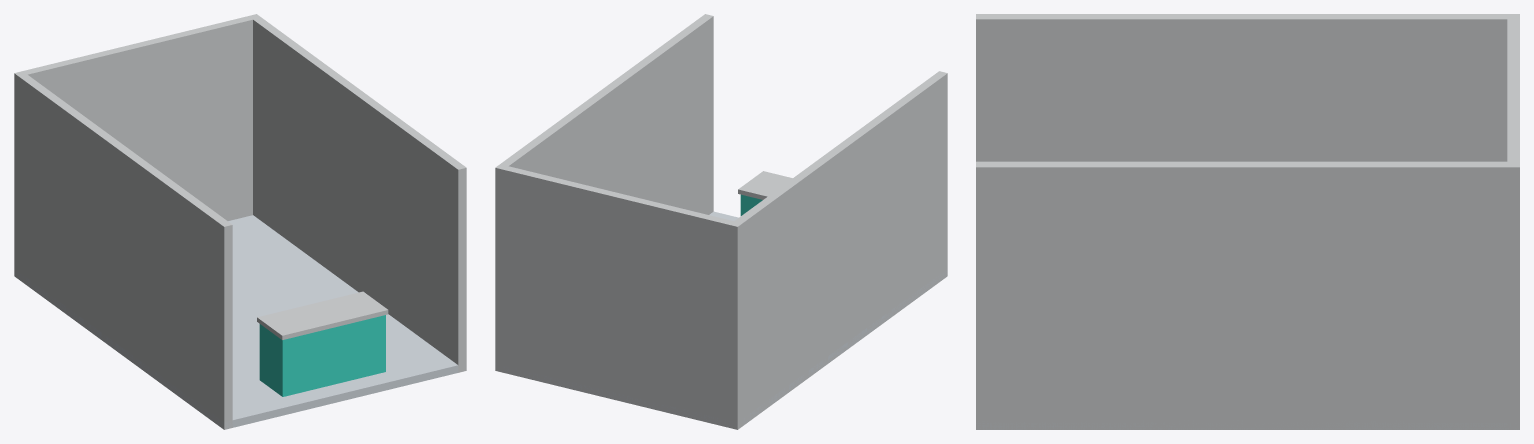
3 renders of one model, left to right at view 1: azimuth 30°, elevation 25°; view 2: azimuth 150°, elevation 25°; view 3: azimuth 270°, elevation 25°, orthographic. The views are drawn at different scales.
Visible parts, largest first — view 1: Exhibition Booth Concept; view 2: Exhibition Booth Concept; view 3: Exhibition Booth Concept.
Part boxes in pixels (x1,y1,x2,y2): Exhibition Booth Concept: (14, 14, 466, 429); Exhibition Booth Concept: (495, 14, 947, 429); Exhibition Booth Concept: (976, 14, 1519, 429).
Bounding box in the file's own units: 4 × 3.2 × 6.
